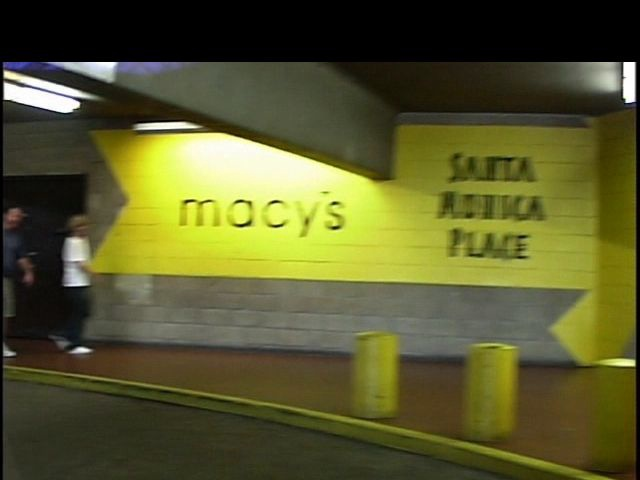person: (43, 206, 115, 370)
